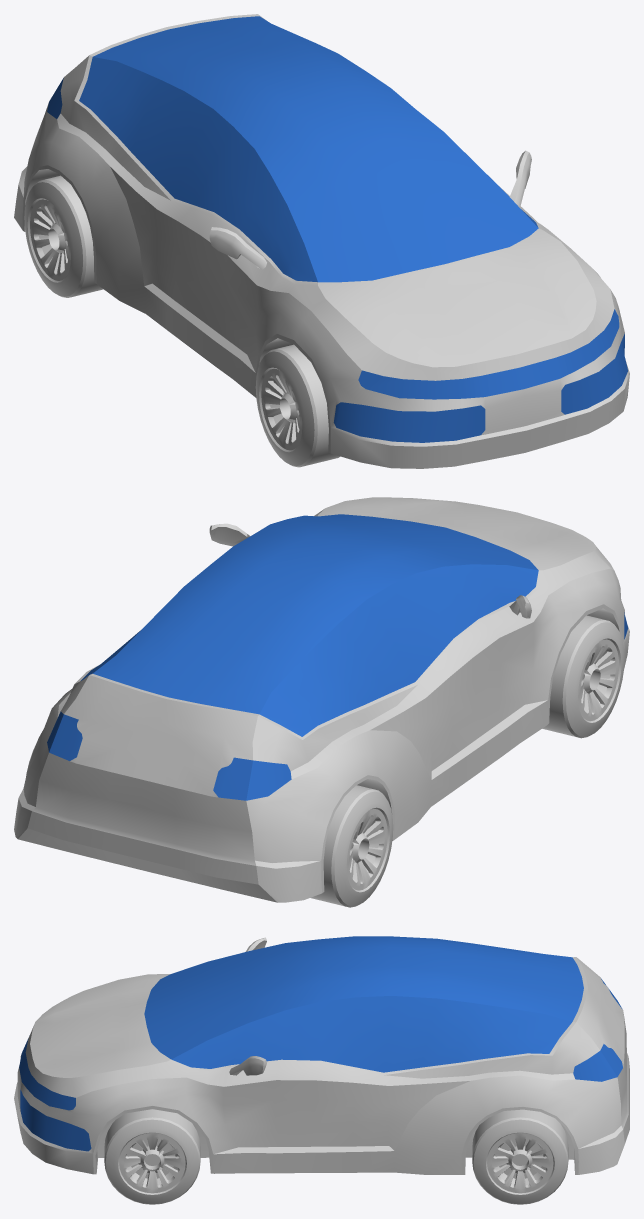
Rendered from Car.fbx.
The picture shows the model from 3 angles, top to bottom: view 1: azimuth 30°, elevation 25°; view 2: azimuth 150°, elevation 25°; view 3: azimuth 270°, elevation 25°; orthographic projection. The views are drawn at different scales.
Visible parts, largest first — view 1: Car, Glass; view 2: Car, Glass; view 3: Car, Glass.
Part boxes in pixels (x1,y1,x2,y2): Car: (14,14,629,468); Glass: (47,16,627,442); Car: (14,497,629,907); Glass: (47,514,628,800); Car: (14,937,629,1204); Glass: (19,936,622,1151).
Bounding box in the file's own units: 202 × 142 × 421.
